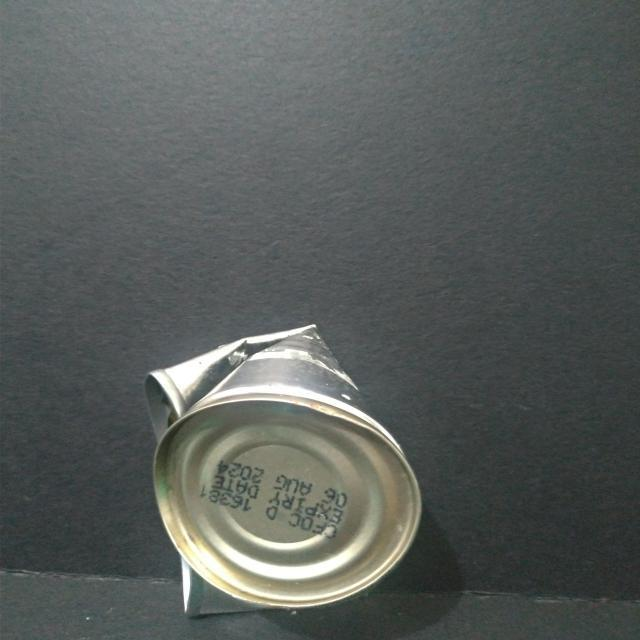metal-can: (142, 322, 424, 616)
